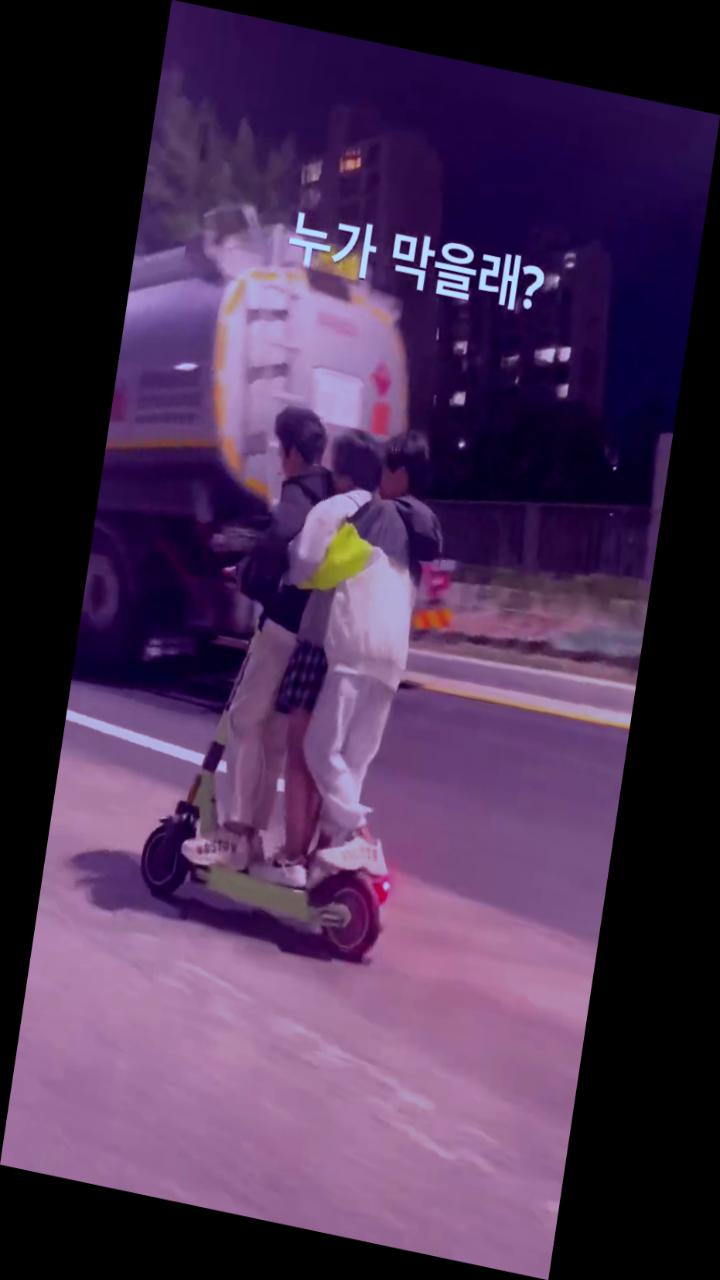multiple: (126, 376, 474, 966)
